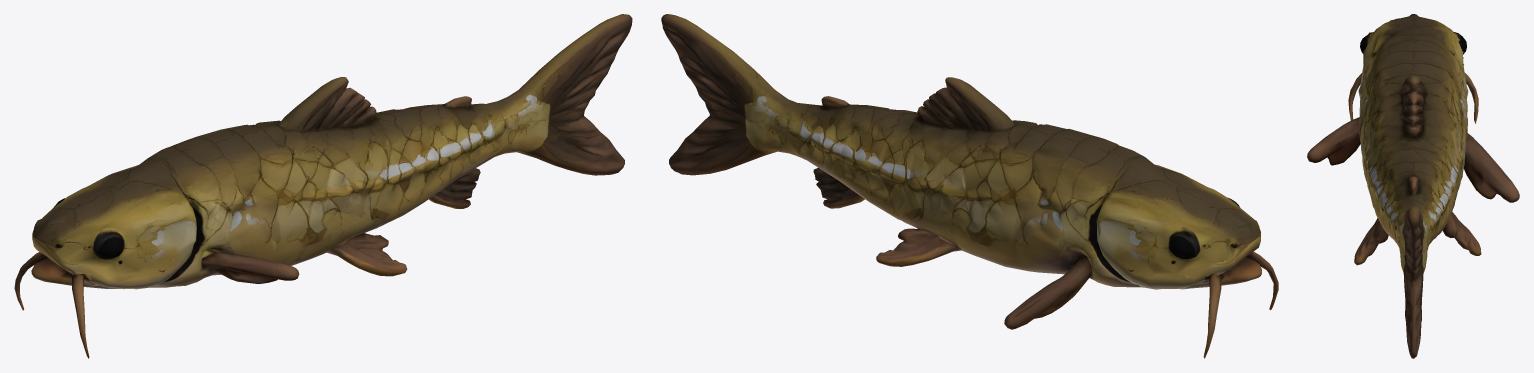
Rendered from fish-som.glb.
The picture shows the model from 3 angles, left to right: view 1: azimuth 30°, elevation 25°; view 2: azimuth 150°, elevation 25°; view 3: azimuth 270°, elevation 25°; orthographic projection. The views are drawn at different scales.
Visible parts, largest first — view 1: tripo_node_f7f39ac4-d1df-4b0f-8dc2-7306f8116b39; view 2: tripo_node_f7f39ac4-d1df-4b0f-8dc2-7306f8116b39; view 3: tripo_node_f7f39ac4-d1df-4b0f-8dc2-7306f8116b39.
Boxes of the visible parts, x1,y1,x2,y2 form: tripo_node_f7f39ac4-d1df-4b0f-8dc2-7306f8116b39: [14, 14, 632, 358]; tripo_node_f7f39ac4-d1df-4b0f-8dc2-7306f8116b39: [661, 14, 1278, 358]; tripo_node_f7f39ac4-d1df-4b0f-8dc2-7306f8116b39: [1307, 14, 1519, 358].
Size of the model in its own units: 1 by 0.3005 by 0.3262.
Materials: 1 (1 with a texture image).
